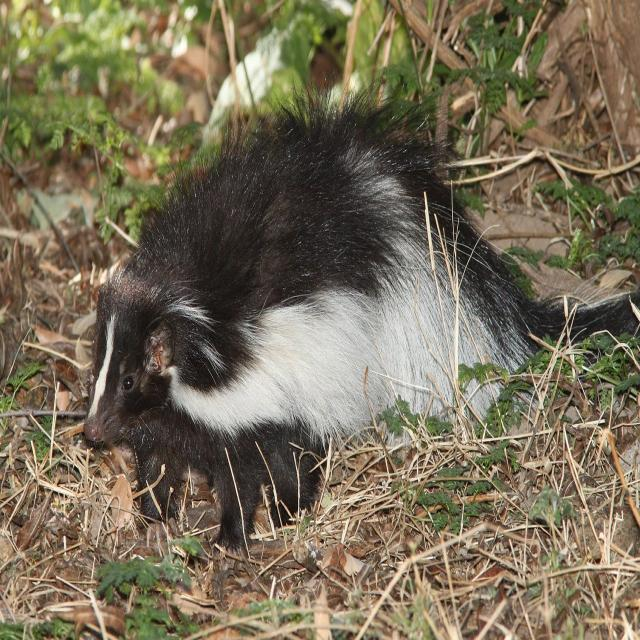Skunk: (69, 86, 583, 517)
